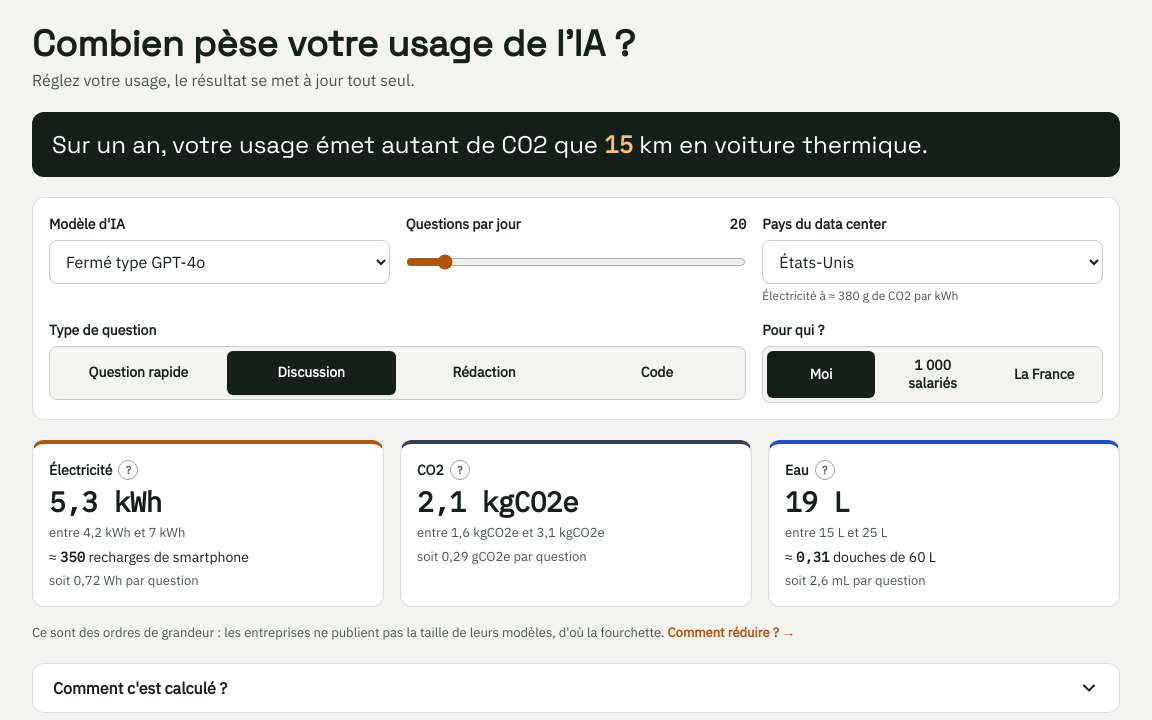
Test: Simulateur › à l'échelle de la France, l'électricité affichée est celle du moteur
The image size is (1152, 720).
Click the button "La France". click: click(1044, 374)
box: [990,351,1098,398]
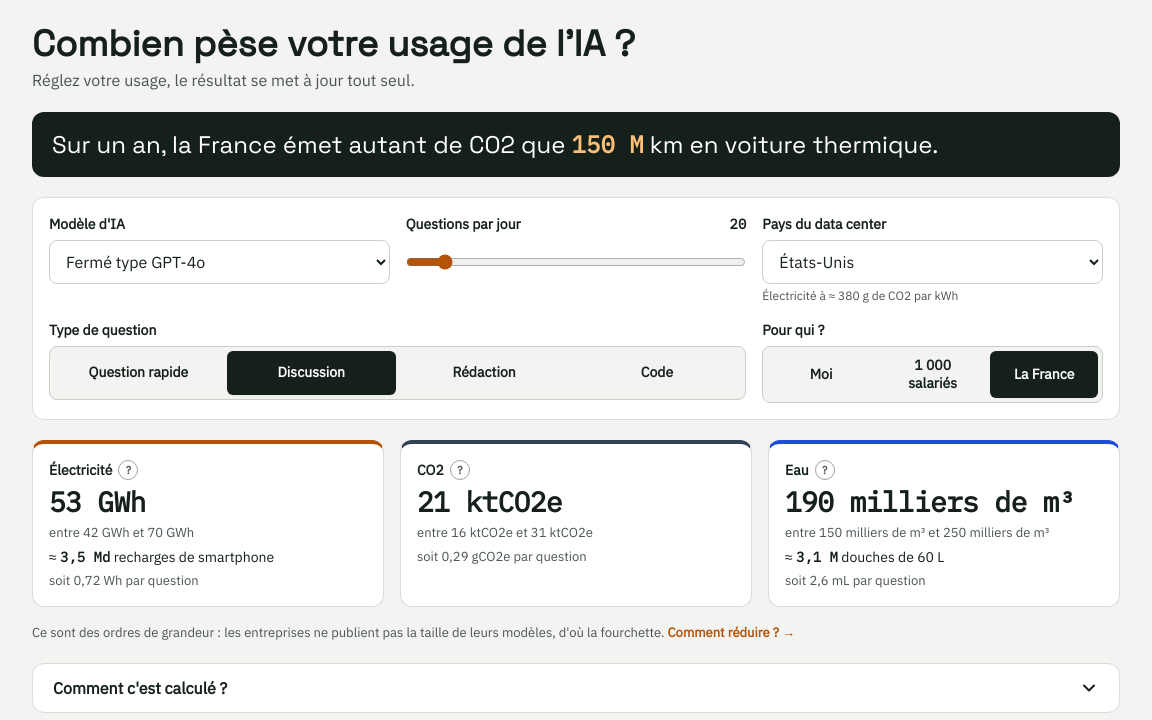
Expected: the element with test id "phrase" shows "Sur un an, la France émet", [32,112,1120,177]
